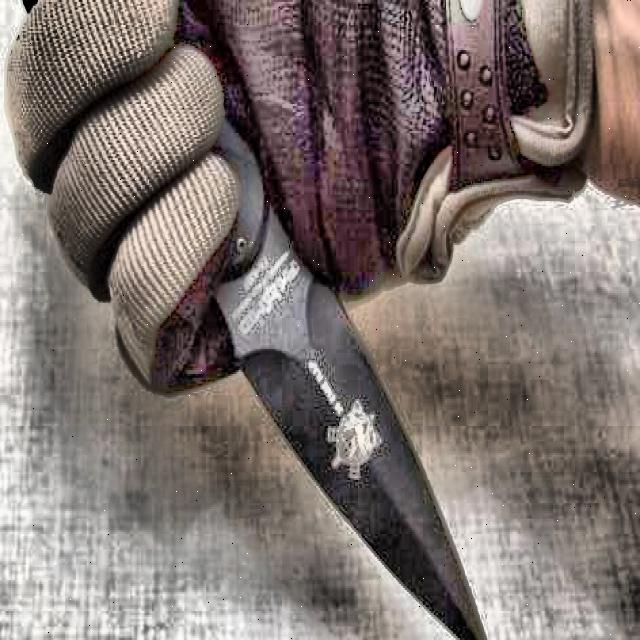knife: (213, 125, 495, 640)
